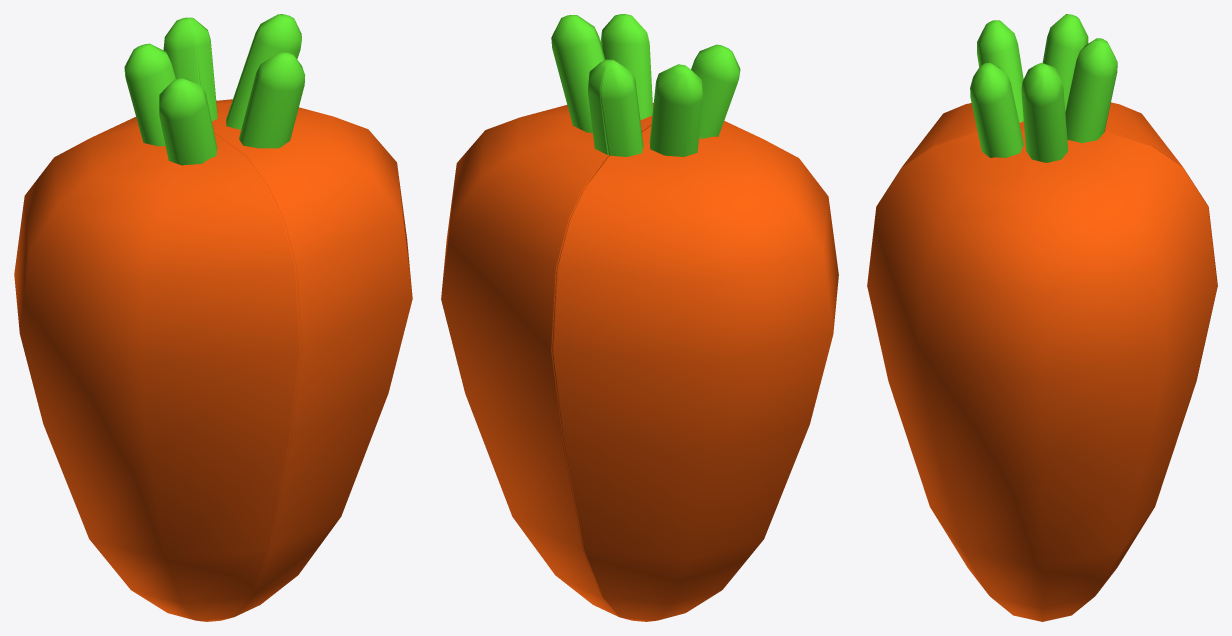
File: SM_Carrot_01a.fbx
3 views of the same model, side by side, from view 1: azimuth 30°, elevation 25°; view 2: azimuth 150°, elevation 25°; view 3: azimuth 270°, elevation 25° (orthographic).
Parts seen in each view (by area): view 1: Carrot_02, Carrot_01; view 2: Carrot_02, Carrot_01; view 3: Carrot_01, Carrot_02.
Boxes of the visible parts, left/top/right/bottom form: Carrot_02: left=14, top=18, right=301, bottom=621; Carrot_01: left=184, top=14, right=412, bottom=616; Carrot_02: left=552, top=44, right=838, bottom=621; Carrot_01: left=441, top=14, right=653, bottom=616; Carrot_01: left=867, top=40, right=1217, bottom=621; Carrot_02: left=903, top=14, right=1181, bottom=165.
Bounding box in the file's own units: 28.1 × 40.44 × 22.13.
